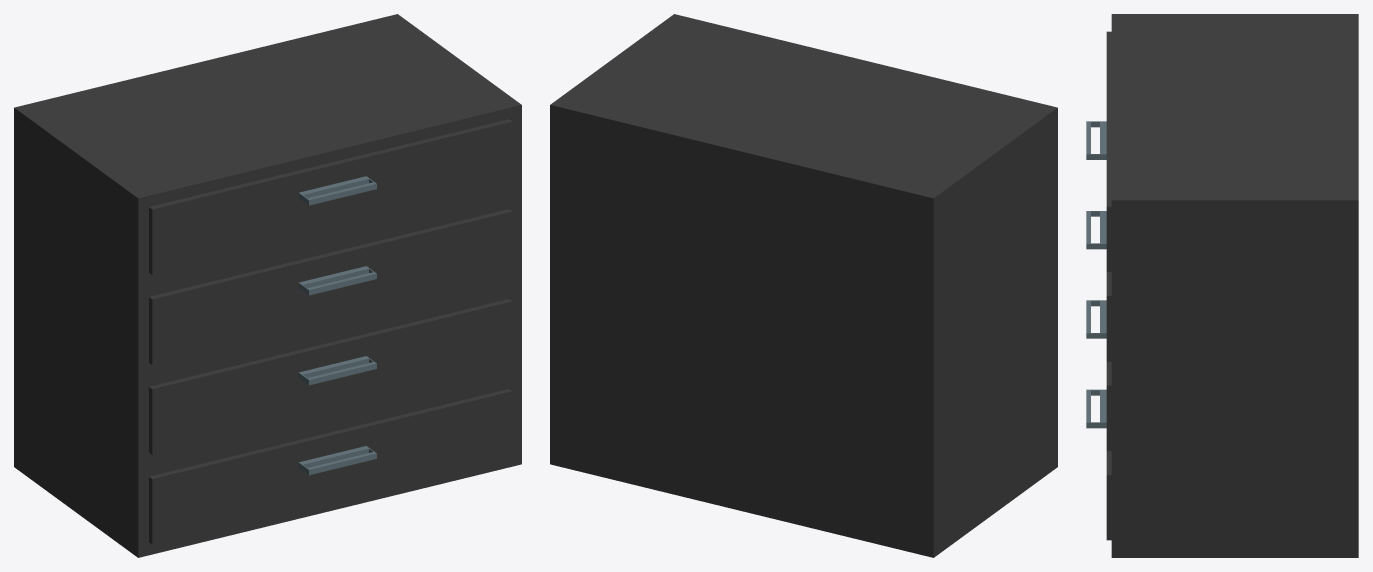
Rendered from CabinetWideV1Black.fbx.
3 renders of one model, left to right at view 1: azimuth 30°, elevation 25°; view 2: azimuth 150°, elevation 25°; view 3: azimuth 270°, elevation 25°, orthographic.
Parts seen in each view (by area): view 1: CabinetWideV1Black, CabinetWideV1Black_Drawer1, CabinetWideV1Black_Drawer4, CabinetWideV1Black_Drawer2, CabinetWideV1Black_Drawer3; view 2: CabinetWideV1Black; view 3: CabinetWideV1Black, CabinetWideV1Black_Drawer1, CabinetWideV1Black_Drawer4, CabinetWideV1Black_Drawer2, CabinetWideV1Black_Drawer3.
Boxes of the visible parts, box(x1,y1,x2,y2) form: CabinetWideV1Black: box(14, 14, 521, 557); CabinetWideV1Black_Drawer1: box(149, 119, 512, 275); CabinetWideV1Black_Drawer4: box(149, 389, 512, 544); CabinetWideV1Black_Drawer2: box(149, 209, 512, 364); CabinetWideV1Black_Drawer3: box(149, 299, 512, 454); CabinetWideV1Black: box(550, 14, 1057, 557); CabinetWideV1Black: box(1111, 14, 1358, 557); CabinetWideV1Black_Drawer1: box(1086, 31, 1111, 271); CabinetWideV1Black_Drawer4: box(1086, 389, 1111, 540); CabinetWideV1Black_Drawer2: box(1086, 211, 1111, 361); CabinetWideV1Black_Drawer3: box(1086, 300, 1111, 450).
Bounding box in the file's own units: 89.32 × 80 × 55.23.
